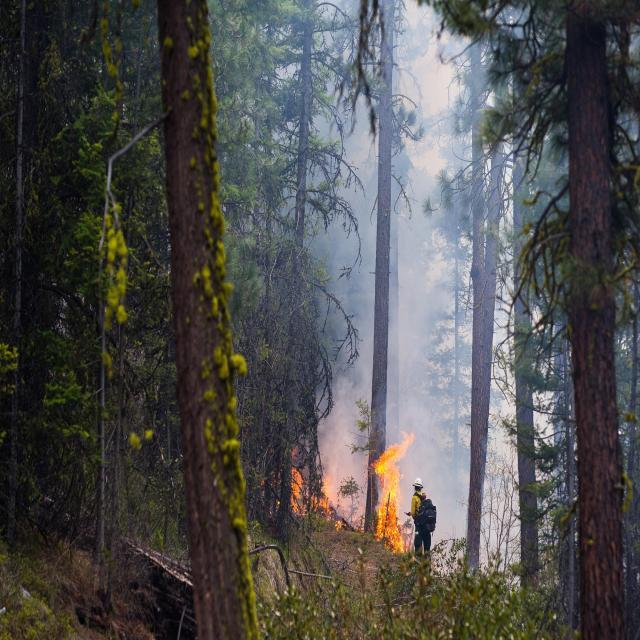Fire: (283, 442, 342, 540), (366, 427, 410, 551)
Smoke: (316, 41, 506, 463)
